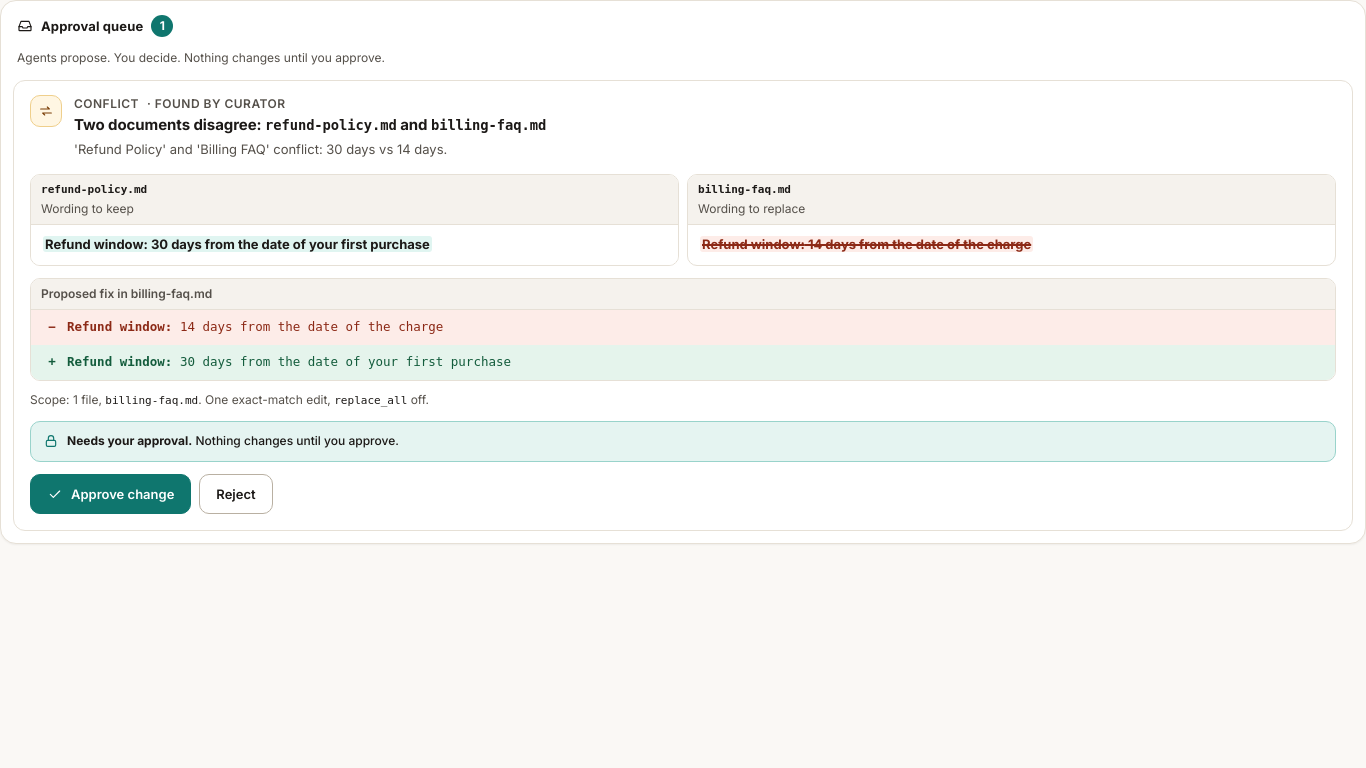
Scenario: approval decisions › treats 503 resetting as a calm retryable state and keeps the card
The image size is (1366, 768).
Click the button "Approve change". click: (111, 494)
box: [30, 474, 191, 514]
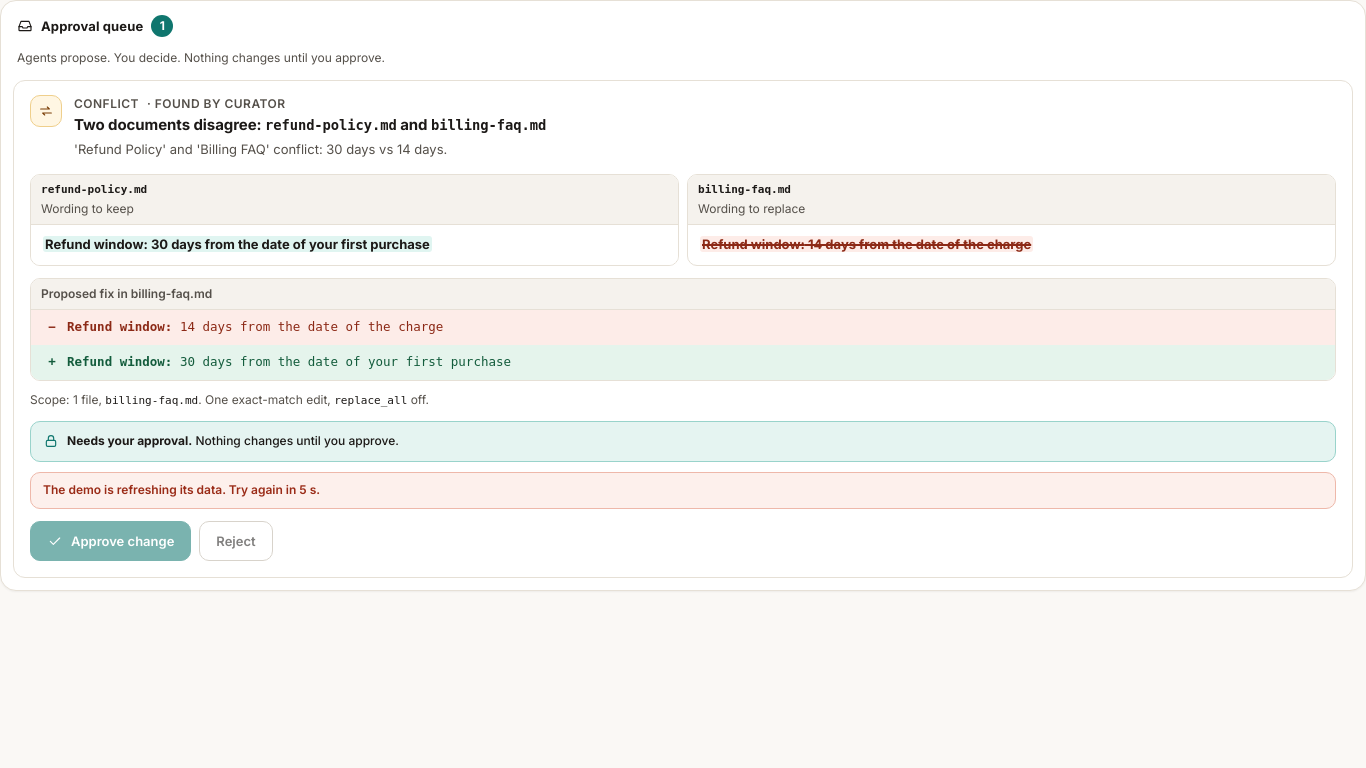
Result: the message shows "refreshing its data. Try again in 5 s" at [43, 482, 320, 497]
Result: the button "Approve change" is disabled at [30, 521, 191, 561]
